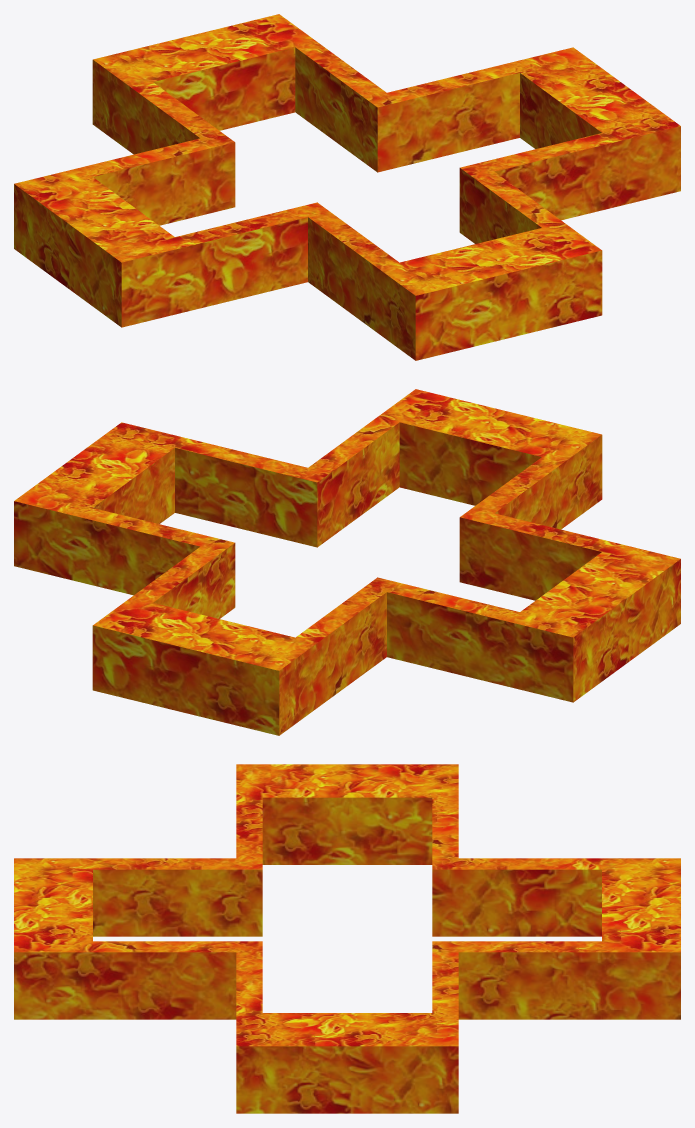
3 renders of one model, top to bottom at view 1: azimuth 30°, elevation 25°; view 2: azimuth 150°, elevation 25°; view 3: azimuth 270°, elevation 25°, orthographic. The views are drawn at different scales.
Visible parts, largest first — view 1: Cross; view 2: Cross; view 3: Cross.
Part boxes in pixels (x1,y1,x2,y2): Cross: [14, 14, 680, 360]; Cross: [14, 389, 680, 735]; Cross: [14, 764, 680, 1113].
Bounding box in the file's own units: 73.37 × 8.15 × 73.37.
Materials: 1 (1 with a texture image).
